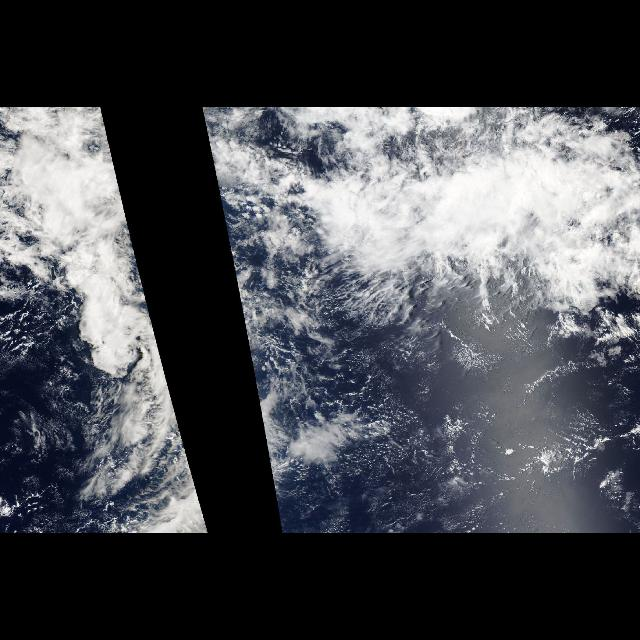Sugar: (383, 338, 627, 524)
